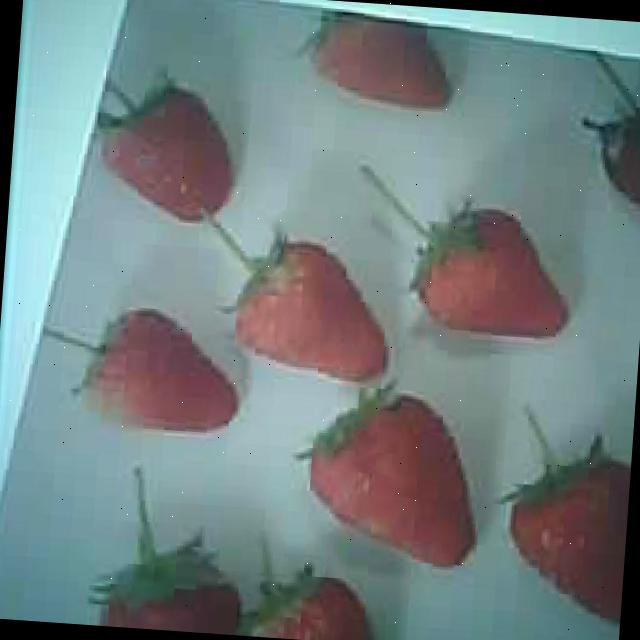strawberry: (300, 390, 482, 568), (227, 239, 391, 383), (410, 203, 570, 340), (500, 456, 630, 624), (80, 304, 242, 438)
